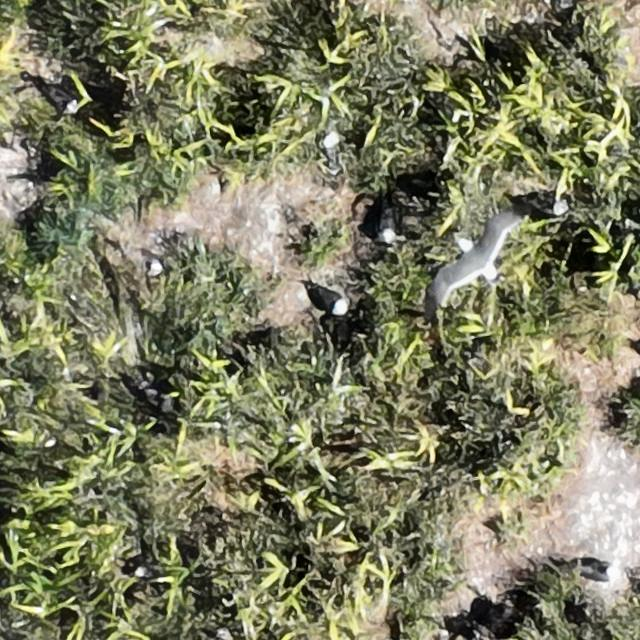F: (433, 220, 521, 302)
umineko: (318, 287, 348, 316), (580, 563, 622, 582), (323, 132, 342, 168), (378, 214, 397, 244), (144, 253, 164, 274)
